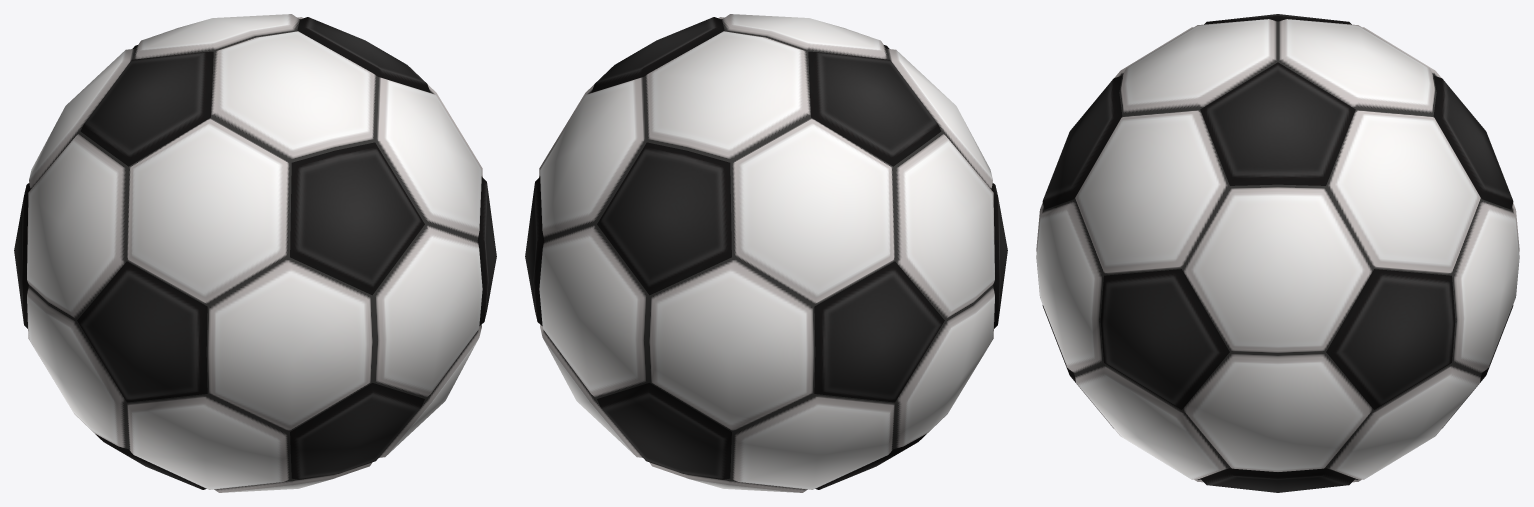
Rendered from soccerball.FBX.
3 renders of one model, left to right at view 1: azimuth 30°, elevation 25°; view 2: azimuth 150°, elevation 25°; view 3: azimuth 270°, elevation 25°, orthographic.
Parts seen in each view (by area): view 1: soccerball; view 2: soccerball; view 3: soccerball.
Part boxes in pixels (<box>): soccerball: <box>14,14,496,492</box>; soccerball: <box>525,14,1007,492</box>; soccerball: <box>1036,14,1519,492</box>.
Size of the model in its own units: 23.84 by 23.84 by 23.84.
